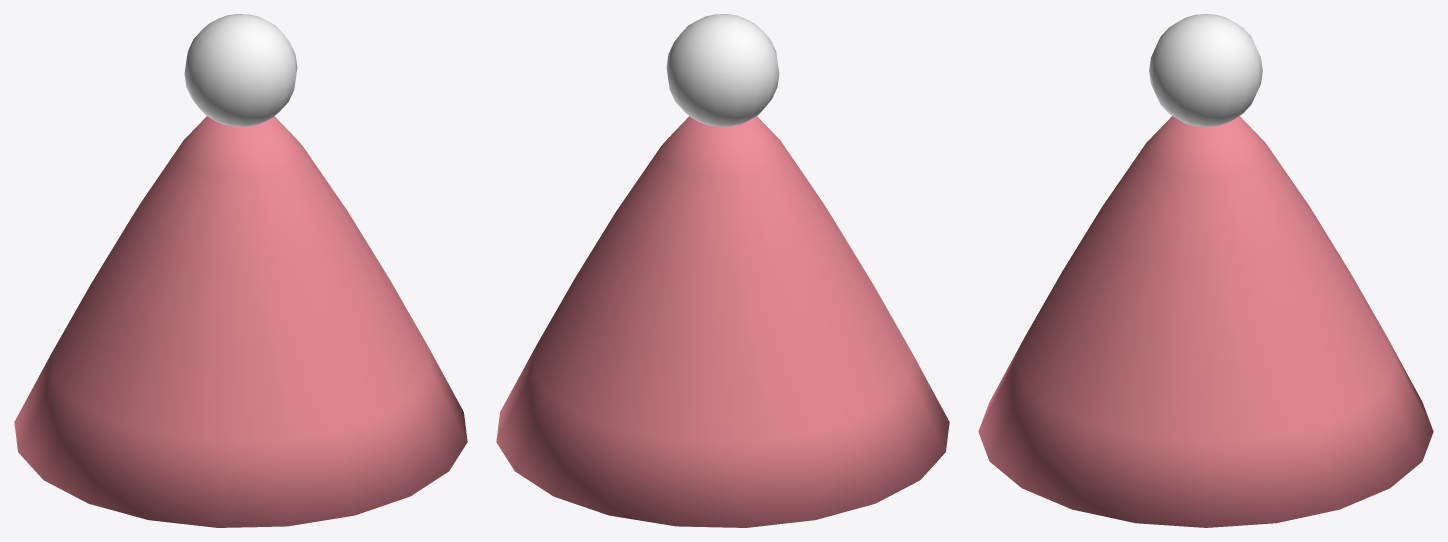
File: hat_party.glb
The picture shows the model from 3 angles, left to right: view 1: azimuth 30°, elevation 25°; view 2: azimuth 150°, elevation 25°; view 3: azimuth 270°, elevation 25°; orthographic projection.
Parts seen in each view (by area): view 1: HatParty; view 2: HatParty; view 3: HatParty.
Boxes of the visible parts, <box> form: HatParty: <box>14,14,467,527</box>; HatParty: <box>496,14,949,527</box>; HatParty: <box>978,14,1433,527</box>.
Size of the model in its own units: 0.4 by 0.417 by 0.4.
